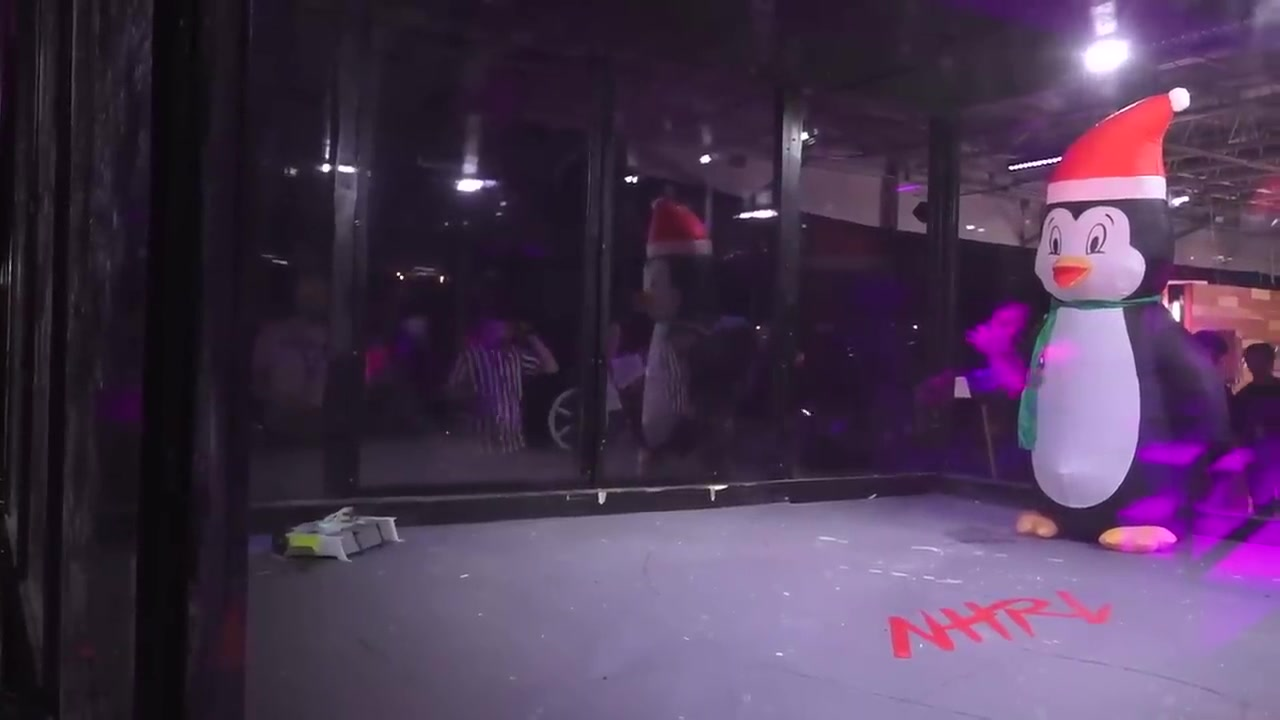combatbot: (274, 504, 405, 560)
